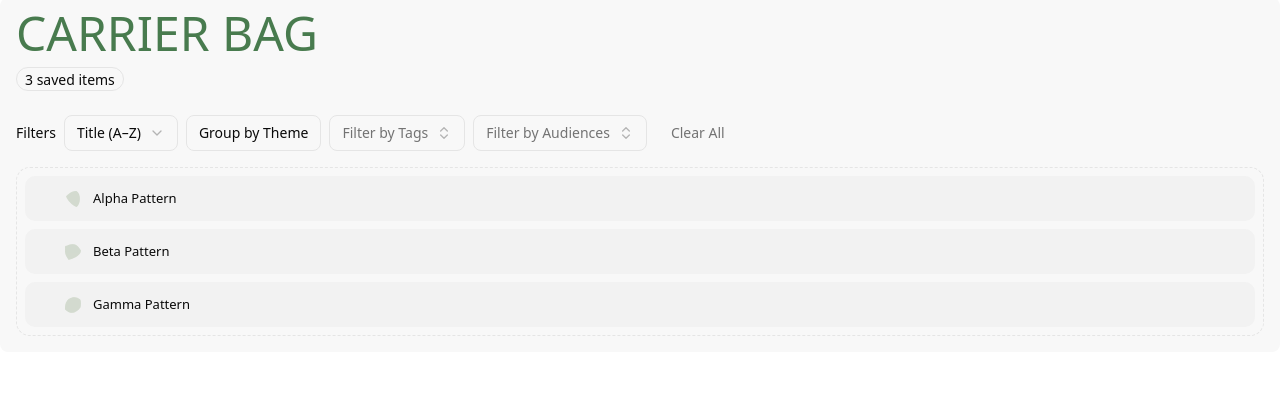
Test: CarrierBagContent Filtering and Ordering › clears all filters and manual order when clear all is clicked
This screenshot has width=1280, height=417.
What coordinates should you click on to do the following:
click the button "Group by Theme"
I would click on:
 (254, 133)
Its box is [186,115,321,151].
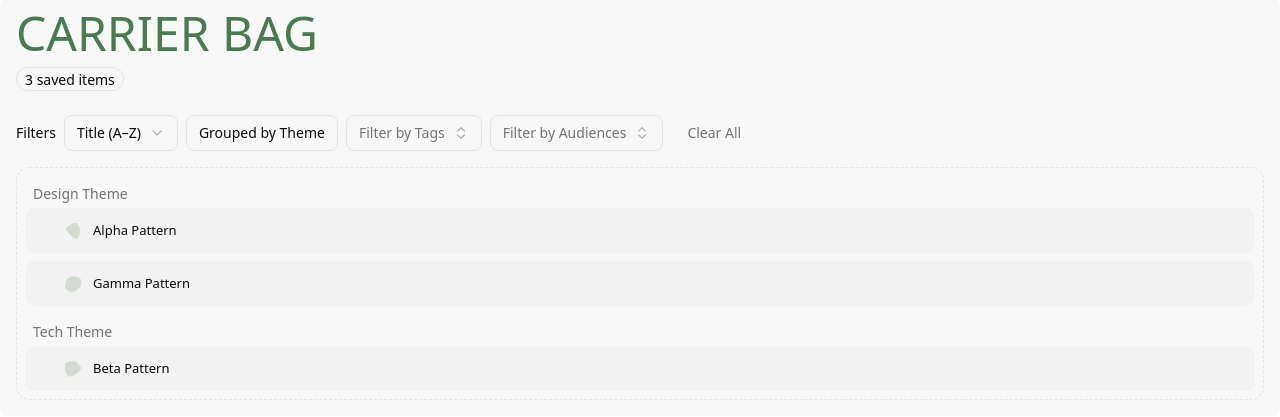
Result: the heading "Design Theme" is shown at [33,184,128,203]
Click clear all
What coordinates should you click on to do the following:
click the button "Clear all"
I would click on:
 (714, 133)
Its box is [671,115,757,151].
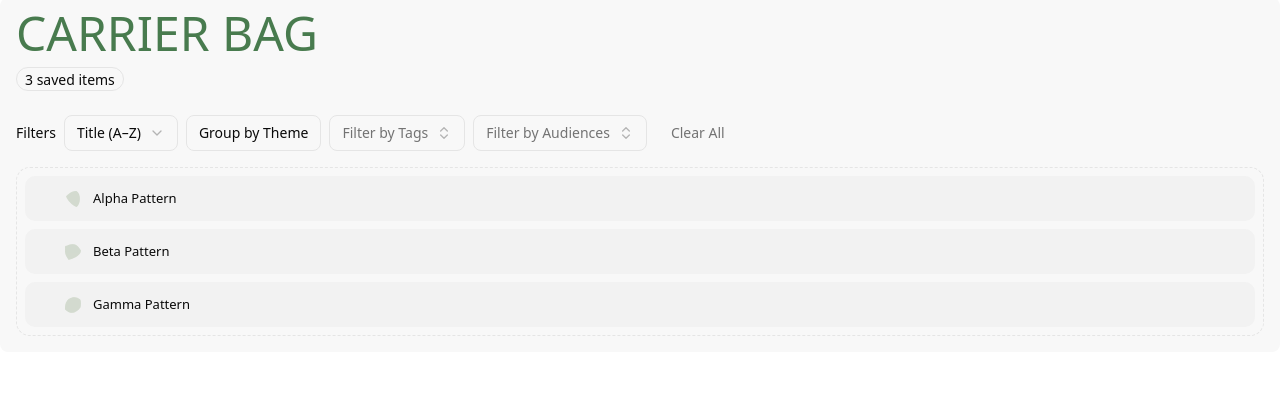
Result: the heading "Design Theme" is gone
Result: the text "Beta Pattern" is shown at [93,242,169,260]
Result: the text "Gamma Pattern" is shown at [93,295,190,313]
